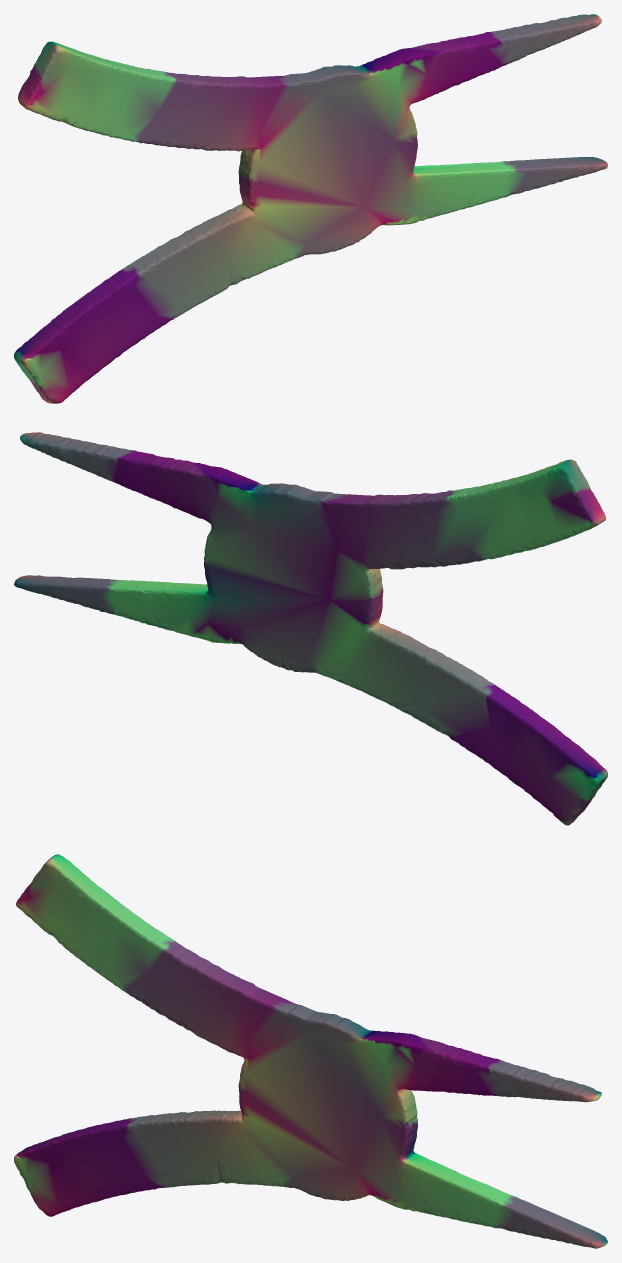
Rendered from scissor-15.off.obj.
3 renders of one model, top to bottom at view 1: azimuth 30°, elevation 25°; view 2: azimuth 150°, elevation 25°; view 3: azimuth 330°, elevation 25°, orthographic.
Bounding box in the file's own units: 1.57 × 0.9138 × 0.0568.
